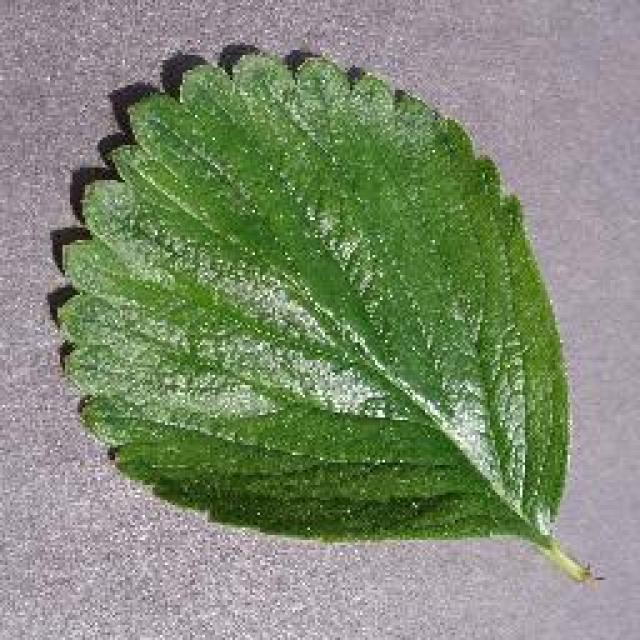Strawberry___healthy: (40, 25, 605, 610)
